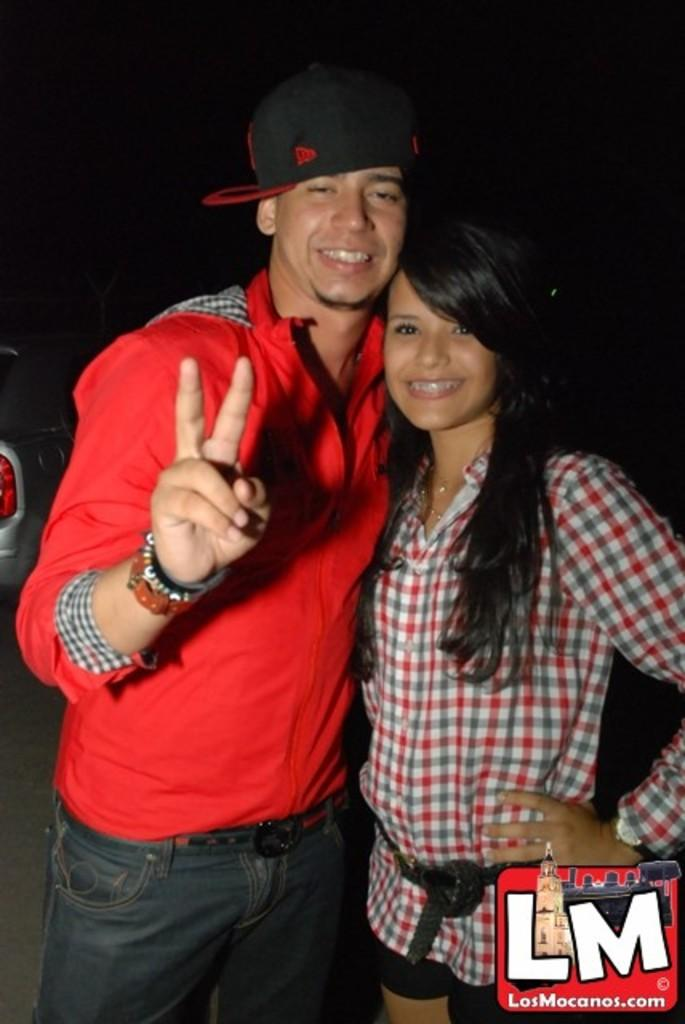Hat: (205, 62, 421, 204)
